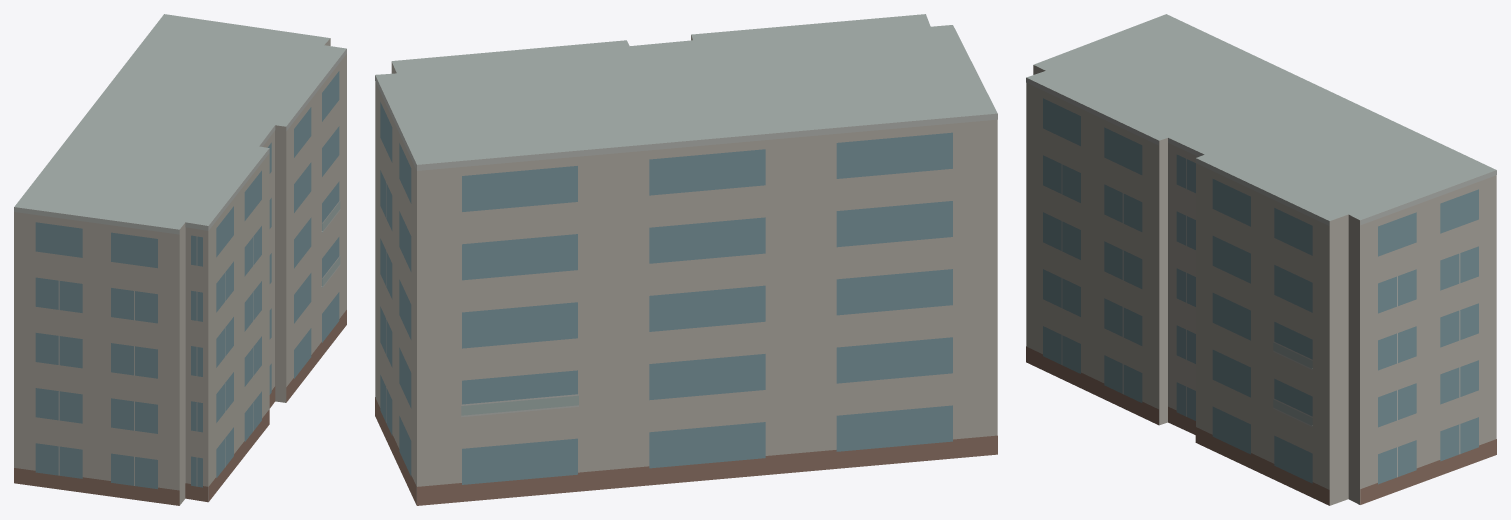
The model's file is survey-upis-32611833.glb.
The picture shows the model from 3 angles, left to right: view 1: azimuth 30°, elevation 25°; view 2: azimuth 150°, elevation 25°; view 3: azimuth 270°, elevation 25°; orthographic projection. The views are drawn at different scales.
Visible parts, largest first — view 1: survey-upis-32611833.tmp; view 2: survey-upis-32611833.tmp; view 3: survey-upis-32611833.tmp.
Part boxes in pixels (bbox=[...]): survey-upis-32611833.tmp: bbox=[14, 14, 346, 505]; survey-upis-32611833.tmp: bbox=[375, 14, 997, 505]; survey-upis-32611833.tmp: bbox=[1026, 14, 1496, 505].
Bounding box in the file's own units: 21.54 × 13.8 × 20.68.
